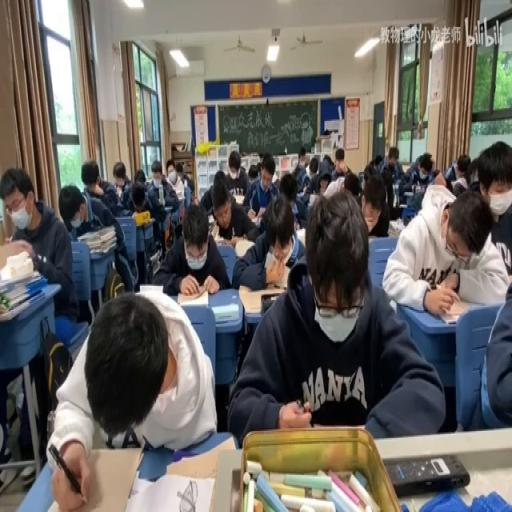calculator: (127, 471, 217, 512), (386, 454, 470, 496), (164, 434, 234, 479), (238, 280, 290, 313), (0, 289, 44, 320), (0, 239, 34, 273), (0, 268, 43, 294), (434, 296, 470, 324), (176, 288, 208, 306), (212, 302, 238, 322), (234, 236, 256, 258), (148, 248, 160, 270), (138, 284, 164, 294), (386, 218, 402, 234), (209, 219, 219, 240), (249, 212, 264, 226), (402, 189, 418, 202), (215, 235, 232, 246), (392, 182, 399, 206), (411, 182, 426, 193), (233, 193, 245, 205), (308, 194, 318, 208), (299, 186, 309, 195), (164, 203, 174, 212), (208, 214, 214, 224), (398, 202, 408, 206)
paper: (49, 287, 218, 511), (0, 166, 79, 466), (380, 182, 507, 314), (72, 176, 138, 296), (464, 268, 510, 430), (154, 199, 229, 296), (233, 191, 304, 287), (358, 169, 392, 238), (400, 149, 435, 202), (221, 151, 248, 199), (443, 154, 471, 194), (110, 160, 133, 200), (380, 148, 406, 183), (164, 158, 186, 199), (292, 149, 310, 188), (320, 175, 346, 199), (278, 172, 298, 203), (0, 200, 14, 240), (332, 148, 350, 178), (342, 170, 360, 196), (130, 188, 146, 212), (182, 174, 194, 194), (246, 164, 260, 180), (134, 168, 146, 185), (362, 164, 372, 184), (151, 170, 162, 186), (321, 155, 333, 168), (308, 162, 318, 176), (373, 154, 382, 169), (430, 168, 440, 179), (258, 152, 264, 168), (429, 156, 435, 170), (176, 169, 182, 181), (272, 171, 278, 182)
